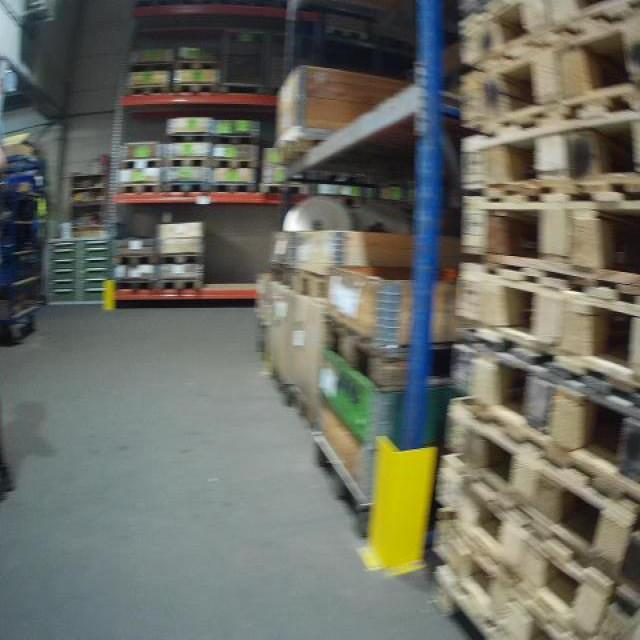pallet: (444, 398, 630, 573), (454, 331, 635, 499), (431, 457, 606, 629), (451, 261, 635, 390), (452, 190, 634, 298), (456, 11, 637, 105), (454, 102, 638, 193), (435, 512, 570, 636), (324, 319, 451, 390), (312, 429, 388, 537), (280, 383, 319, 433), (320, 20, 373, 44), (154, 270, 205, 292), (293, 273, 331, 302), (113, 240, 154, 266), (116, 173, 160, 197), (257, 178, 306, 197), (165, 154, 211, 174), (164, 128, 211, 147), (117, 155, 163, 174), (212, 152, 258, 169), (211, 180, 257, 196), (154, 253, 205, 267), (113, 277, 156, 293), (215, 132, 260, 147), (166, 180, 208, 194), (171, 81, 219, 93), (175, 55, 219, 68), (131, 84, 169, 98), (128, 57, 172, 69)
